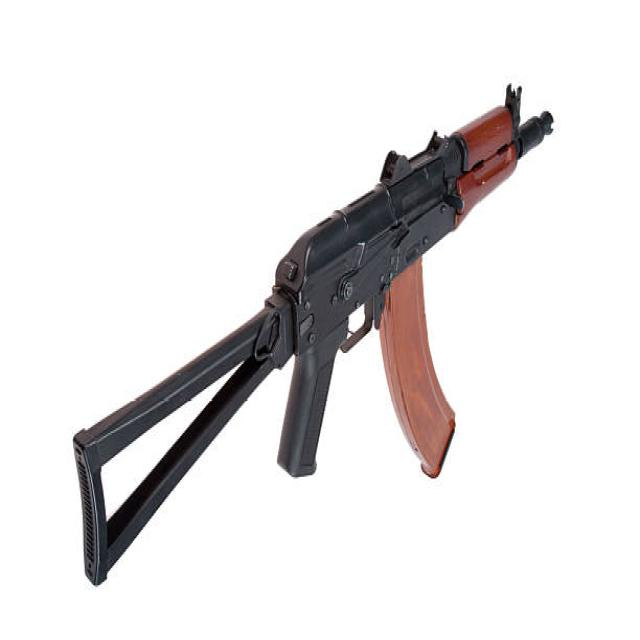rifle: (68, 77, 558, 617)
